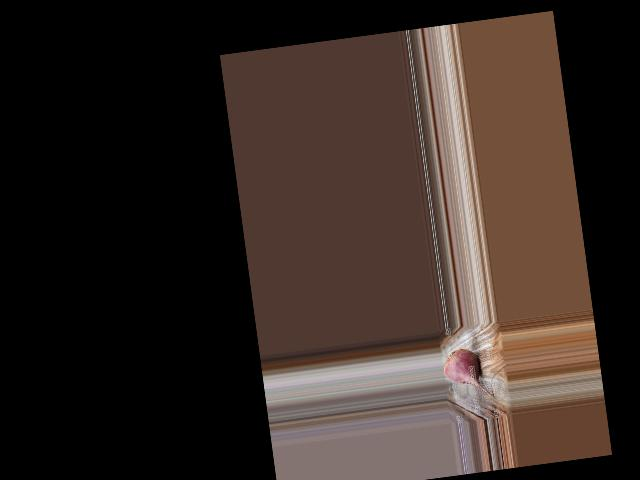beet: (441, 346, 494, 404)
